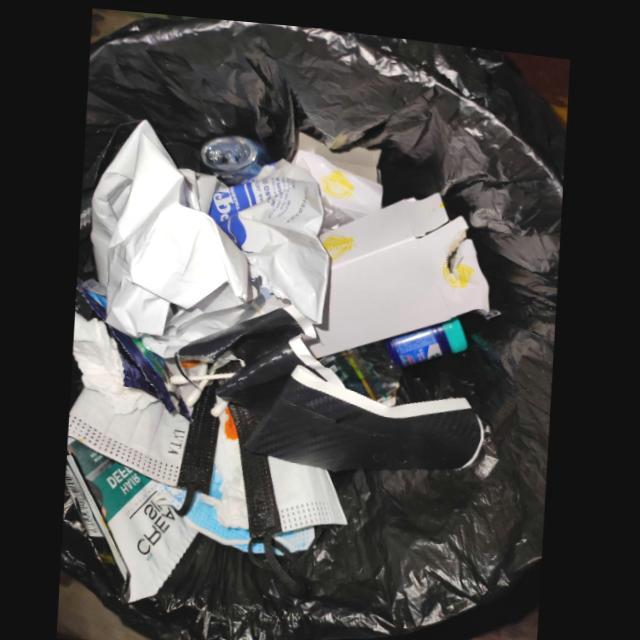cardboard: (306, 183, 489, 353), (293, 126, 384, 227)
paper: (89, 118, 260, 356), (74, 309, 159, 410), (204, 401, 251, 525), (319, 332, 405, 396)
plastic_container: (387, 307, 469, 359)
plastic_sachet: (67, 438, 199, 599)
